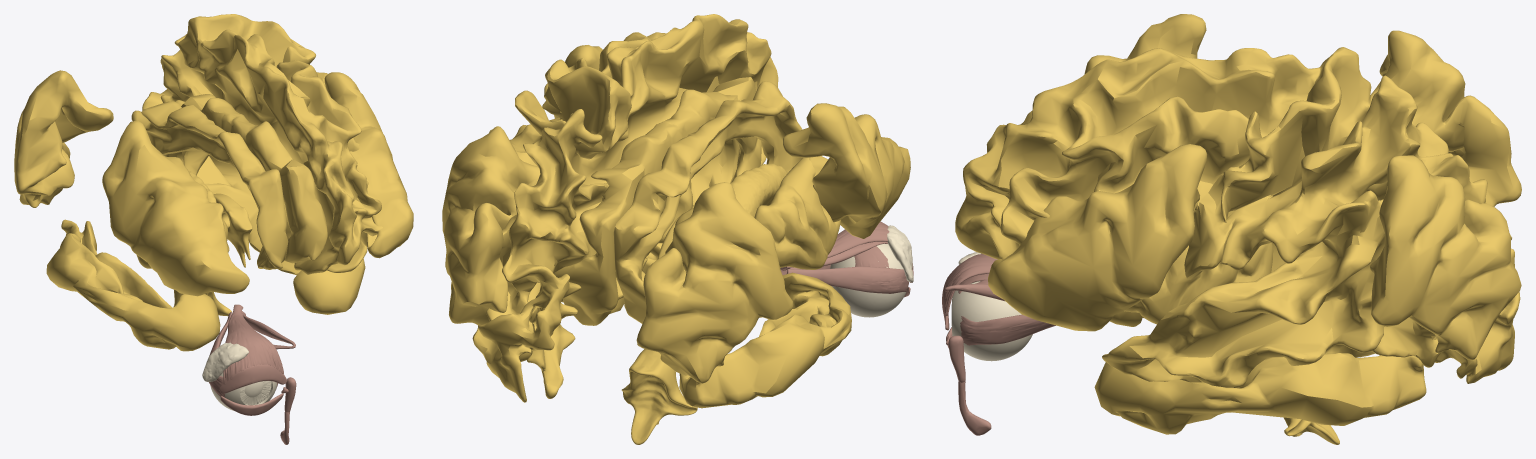
The model's file is head-1.glb.
3 renders of one model, left to right at view 1: azimuth 30°, elevation 25°; view 2: azimuth 150°, elevation 25°; view 3: azimuth 270°, elevation 25°, orthographic. The views are drawn at different scales.
Parts seen in each view (by area): view 1: FJ1758, FJ1745, FJ1747, FJ1733, FJ1740, FJ1739, FJ1744, FJ1746, FJ1357, FJ1730, FJ1350, FJ1375 (+3 smaller); view 2: FJ1758, FJ1733, FJ1740, FJ1732, FJ1739, FJ1747, FJ1745, FJ1749, FJ1731, FJ1355, FJ1751, FJ1368 (+5 smaller); view 3: FJ1758, FJ1744, FJ1732, FJ1746, FJ1733, FJ1748, FJ1368, FJ1745, FJ1359, FJ1357, FJ1731, FJ1353 (+1 smaller).
Boxes of the visible parts, x1,y1,x2,y2 form: FJ1758: (142,14,382,275); FJ1745: (102,121,249,296); FJ1747: (46,219,220,351); FJ1733: (14,70,113,207); FJ1740: (127,101,288,269); FJ1739: (164,94,327,263); FJ1744: (324,72,413,258); FJ1746: (293,258,365,314); FJ1357: (223,304,283,384); FJ1730: (213,193,252,267); FJ1350: (202,342,248,381); FJ1375: (219,364,287,394); FJ1758: (472,14,778,402); FJ1733: (636,182,793,383); FJ1740: (613,81,802,323); FJ1732: (442,126,540,325); FJ1739: (553,77,761,325); FJ1747: (679,272,851,408); FJ1745: (783,103,910,238); FJ1749: (754,157,840,269); FJ1731: (621,349,697,444); FJ1355: (787,266,908,293); FJ1751: (730,163,787,217); FJ1368: (830,243,906,317); FJ1758: (955,47,1520,388); FJ1744: (988,144,1207,331); FJ1732: (1366,155,1521,360); FJ1746: (1094,353,1426,434); FJ1733: (1370,30,1521,206); FJ1748: (1124,243,1273,324); FJ1368: (951,281,1032,361); FJ1745: (1019,14,1206,124); FJ1359: (960,314,1055,345); FJ1357: (945,253,997,315); FJ1731: (1284,417,1339,444); FJ1353: (958,381,991,435).
Bounding box in the file's own units: 0.1306 × 0.1352 × 0.1674.
